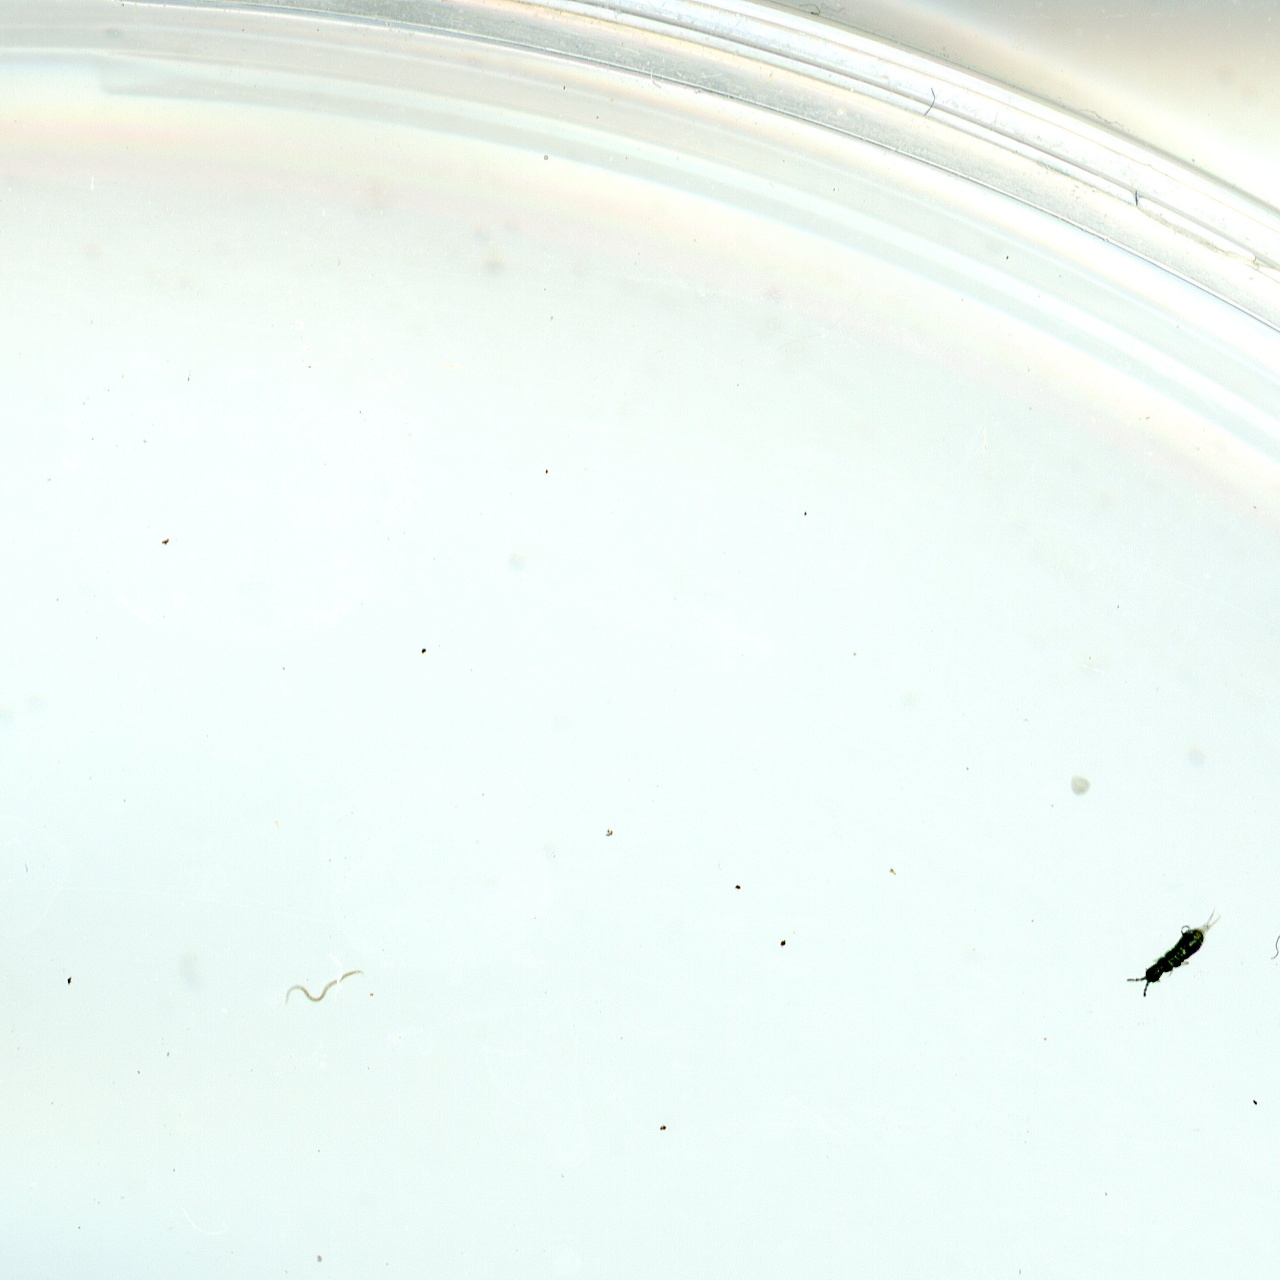arthropod: (1116, 885, 1233, 1014)
